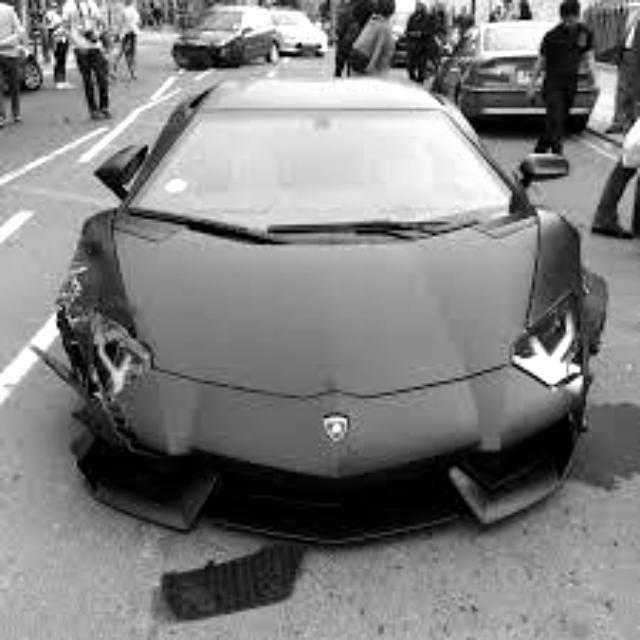Headlight-damage: (46, 287, 159, 395), (509, 288, 617, 384)
